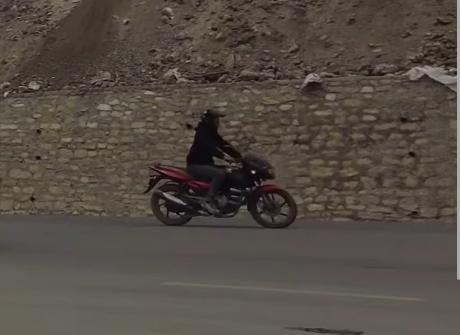bike: (141, 144, 304, 229)
